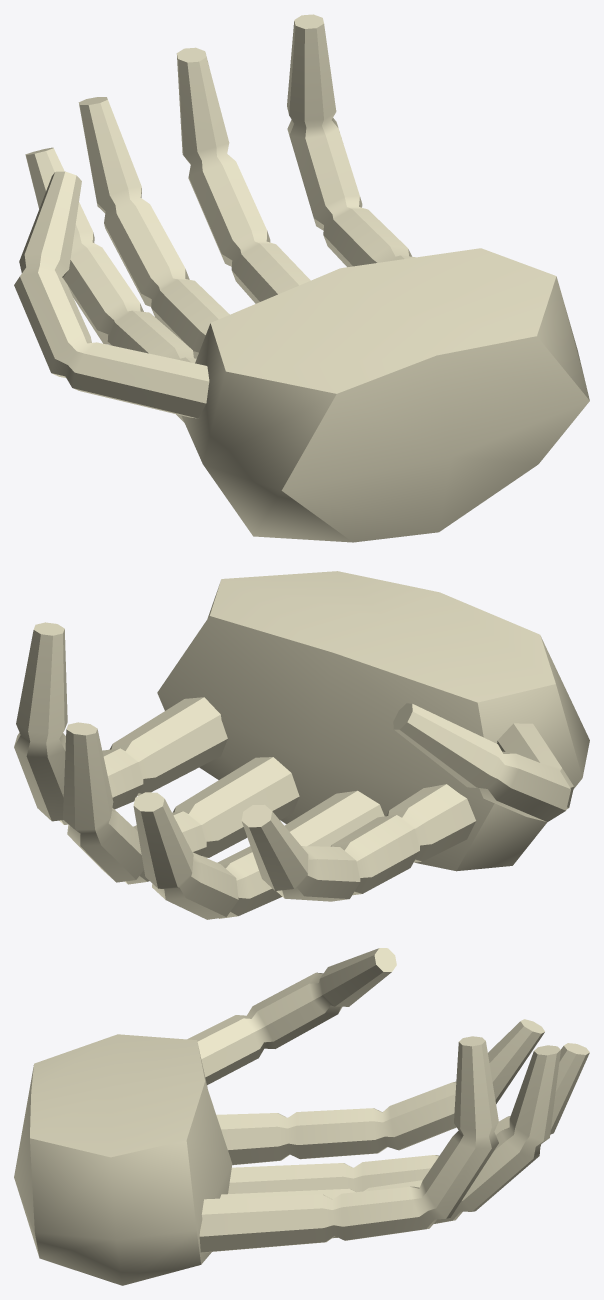
File: Mano_Iz.fbx
3 renders of one model, top to bottom at view 1: azimuth 30°, elevation 25°; view 2: azimuth 150°, elevation 25°; view 3: azimuth 270°, elevation 25°, orthographic. The views are drawn at different scales.
Parts seen in each view (by area): view 1: Mano_Iz; view 2: Mano_Iz; view 3: Mano_Iz.
Part boxes in pixels (bbox=[...]): Mano_Iz: bbox=[14, 14, 589, 542]; Mano_Iz: bbox=[14, 571, 589, 919]; Mano_Iz: bbox=[14, 948, 589, 1285].
Size of the model in its own units: 13.37 by 9.05 by 17.18.
